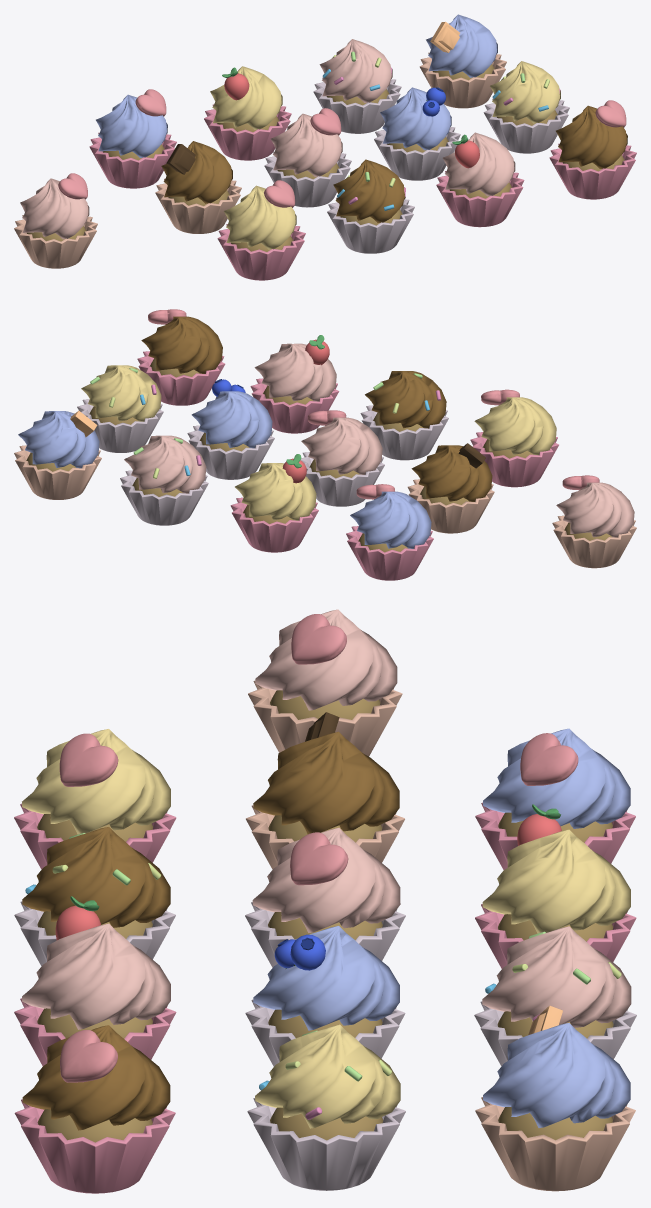
The model's file is cupcake.glb.
3 views of the same model, one above another, from view 1: azimuth 30°, elevation 25°; view 2: azimuth 150°, elevation 25°; view 3: azimuth 270°, elevation 25° (orthographic). The views are drawn at different scales.
Parts seen in each view (by area): view 1: B_SmalLeaves.002_Leaves_0; view 2: B_SmalLeaves.002_Leaves_0; view 3: B_SmalLeaves.002_Leaves_0.
Boxes of the visible parts, x1,y1,x2,y2 form: B_SmalLeaves.002_Leaves_0: (14,14,636,280); B_SmalLeaves.002_Leaves_0: (14,309,636,580); B_SmalLeaves.002_Leaves_0: (14,609,636,1193).
Size of the model in its own units: 0.4 by 0.0614 by 0.2157.
Materials: 1 (1 with a texture image).
